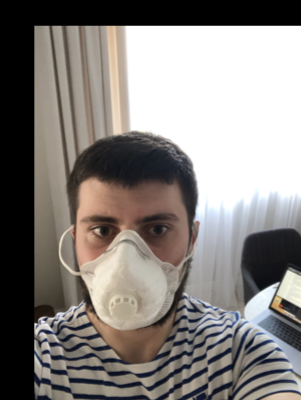with_mask: (76, 201, 185, 329)
